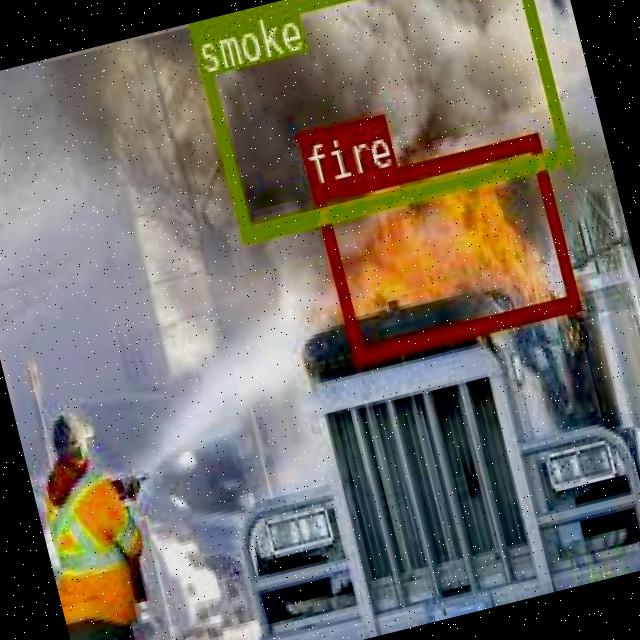fire: (310, 130, 576, 358)
smoke: (187, 0, 567, 237)
